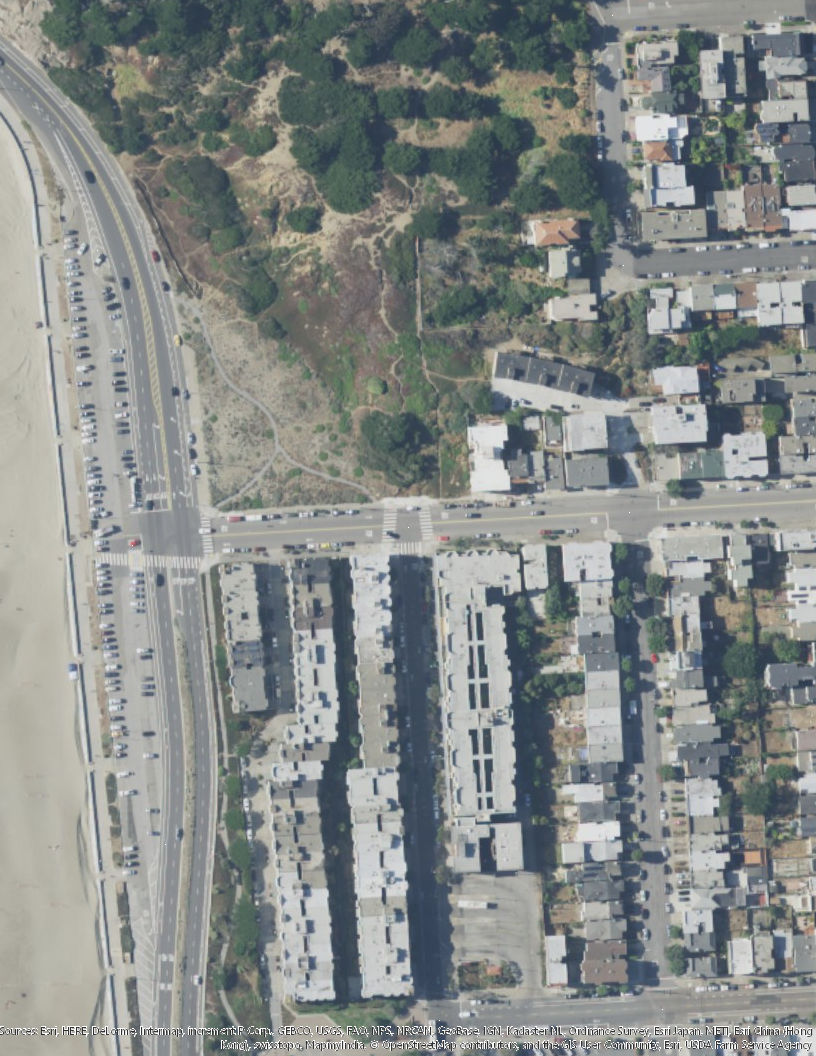zebracross: (142, 554, 200, 567), (380, 505, 396, 544), (97, 551, 131, 566), (396, 540, 424, 554), (203, 513, 212, 556), (422, 502, 432, 540)
